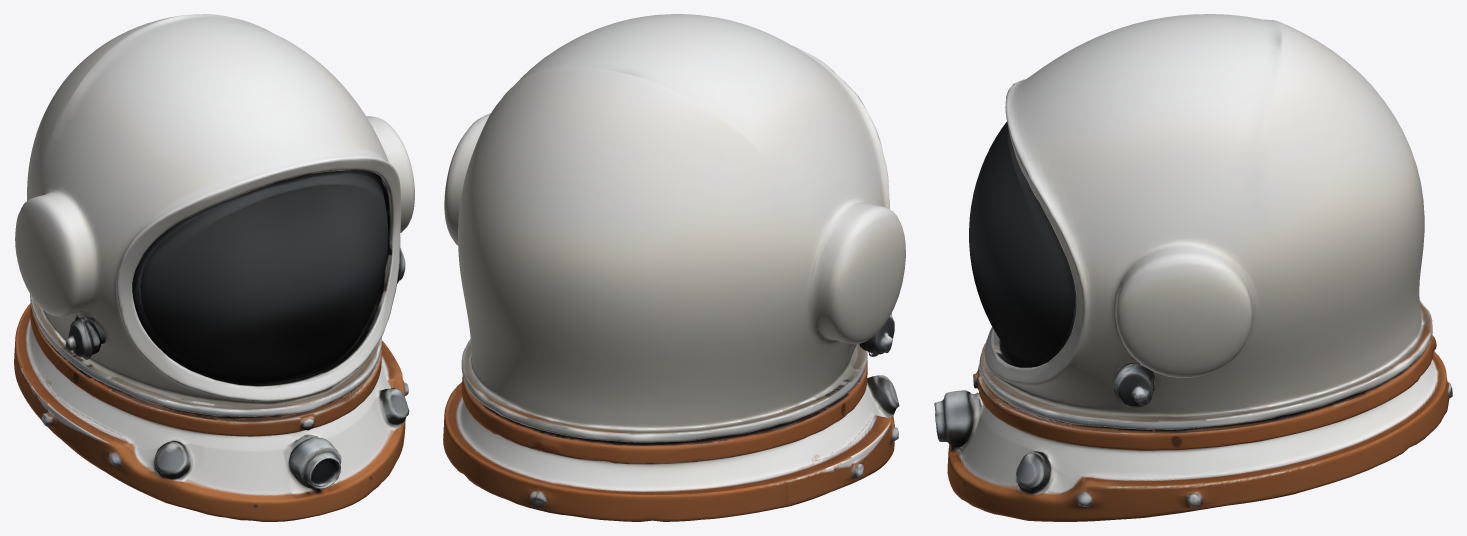
The model's file is AstronautHelmet.fbx.
3 renders of one model, left to right at view 1: azimuth 30°, elevation 25°; view 2: azimuth 150°, elevation 25°; view 3: azimuth 270°, elevation 25°, orthographic. The views are drawn at different scales.
Visible parts, largest first — view 1: Astronaut Helmet; view 2: Astronaut Helmet; view 3: Astronaut Helmet.
Part boxes in pixels (x1,y1,x2,y2): Astronaut Helmet: (14, 14, 414, 521); Astronaut Helmet: (443, 14, 905, 521); Astronaut Helmet: (934, 14, 1452, 521).
Bounding box in the file's own units: 60.85 × 64.08 × 68.32.
